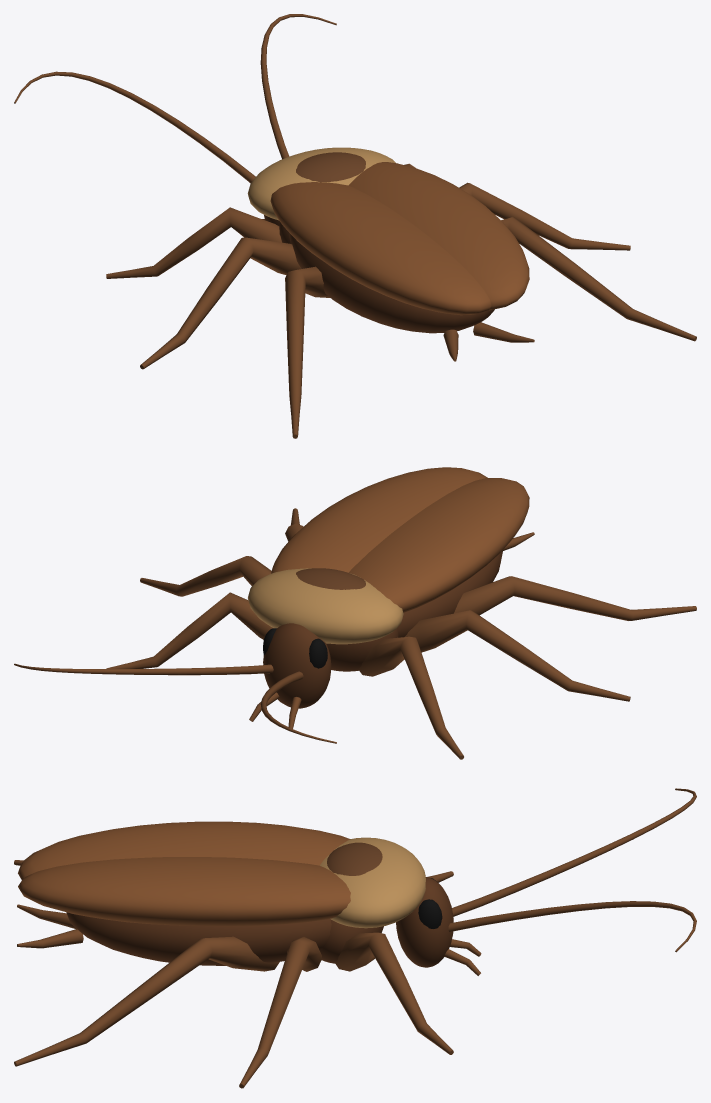
Rendered from cockroach.glb.
3 renders of one model, top to bottom at view 1: azimuth 30°, elevation 25°; view 2: azimuth 150°, elevation 25°; view 3: azimuth 270°, elevation 25°, orthographic. The views are drawn at different scales.
Visible parts, largest first — view 1: Wing_L, Wing_R, Abdomen, Leg_L2, Leg_R3, Leg_L3, Leg_L1, Pronotum, Leg_R2, Antenna_L, Pronotum_Mark, Antenna_R; view 2: Wing_L, Wing_R, Pronotum, Leg_L2, Leg_L3, Head, Leg_L1, Leg_R1, Leg_R2, Abdomen, Antenna_R, Thorax (+3 smaller); view 3: Wing_R, Wing_L, Abdomen, Pronotum, Leg_R3, Leg_R1, Head, Leg_R2, Antenna_L, Antenna_R, Pronotum_Mark, Thorax (+3 smaller).
Part boxes in pixels (x1=…): Wing_L: x1=270, y1=182, x2=491, y2=315; Wing_R: x1=348, y1=162, x2=529, y2=310; Abdomen: x1=289, y1=233, x2=494, y2=333; Leg_L2: x1=140, y1=237, x2=301, y2=369; Leg_R3: x1=501, y1=217, x2=696, y2=341; Leg_L3: x1=285, y1=266, x2=329, y2=438; Leg_L1: x1=106, y1=207, x2=281, y2=278; Pronotum: x1=247, y1=147, x2=395, y2=220; Leg_R2: x1=459, y1=182, x2=630, y2=250; Antenna_L: x1=14, y1=71, x2=255, y2=183; Pronotum_Mark: x1=296, y1=152, x2=365, y2=182; Antenna_R: x1=260, y1=14, x2=336, y2=159; Wing_L: x1=348, y1=478, x2=529, y2=612; Wing_R: x1=271, y1=467, x2=487, y2=573; Pronotum: x1=248, y1=568, x2=403, y2=644; Leg_L2: x1=405, y1=610, x2=630, y2=701; Leg_L3: x1=454, y1=576, x2=696, y2=620; Head: x1=263, y1=623, x2=331, y2=708; Leg_L1: x1=358, y1=636, x2=463, y2=759; Leg_R1: x1=106, y1=592, x2=272, y2=668; Leg_R2: x1=140, y1=556, x2=271, y2=596; Abdomen: x1=397, y1=550, x2=502, y2=637; Antenna_R: x1=14, y1=663, x2=273, y2=675; Thorax: x1=326, y1=628, x2=398, y2=671; Wing_R: x1=18, y1=857, x2=350, y2=926; Wing_L: x1=18, y1=821, x2=350, y2=879; Abdomen: x1=66, y1=912, x2=331, y2=965; Pronotum: x1=320, y1=837, x2=425, y2=928; Leg_R3: x1=14, y1=936, x2=279, y2=1066; Leg_R1: x1=334, y1=932, x2=453, y2=1054; Head: x1=396, y1=877, x2=453, y2=967; Leg_R2: x1=239, y1=937, x2=321, y2=1088; Antenna_L: x1=452, y1=788, x2=696, y2=916; Antenna_R: x1=448, y1=901, x2=696, y2=952; Pronotum_Mark: x1=327, y1=842, x2=382, y2=875; Thorax: x1=320, y1=919, x2=383, y2=963.
Bounding box in the file's own units: 0.0746 × 0.0161 × 0.0872.
